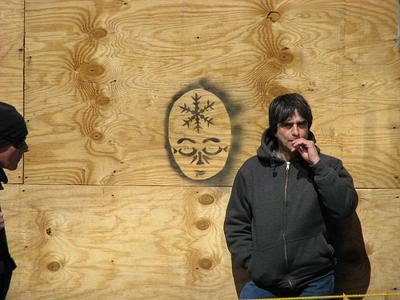person: (220, 91, 359, 300)
